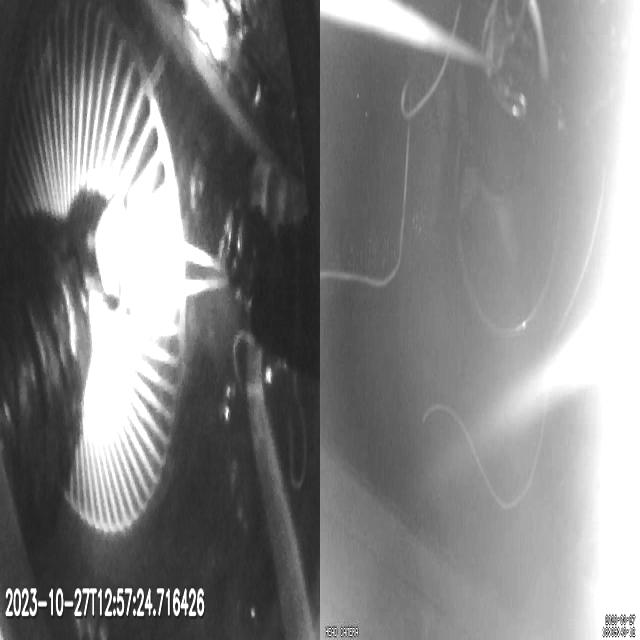head: (102, 189, 185, 327)
